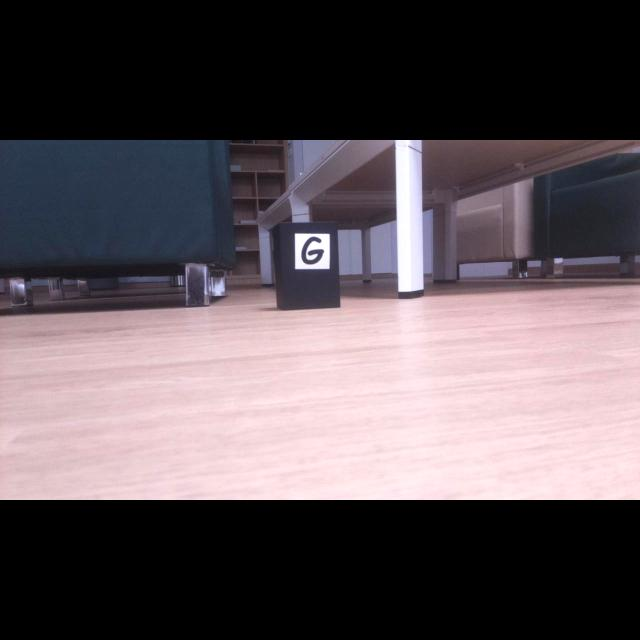G: (301, 236, 324, 265)
